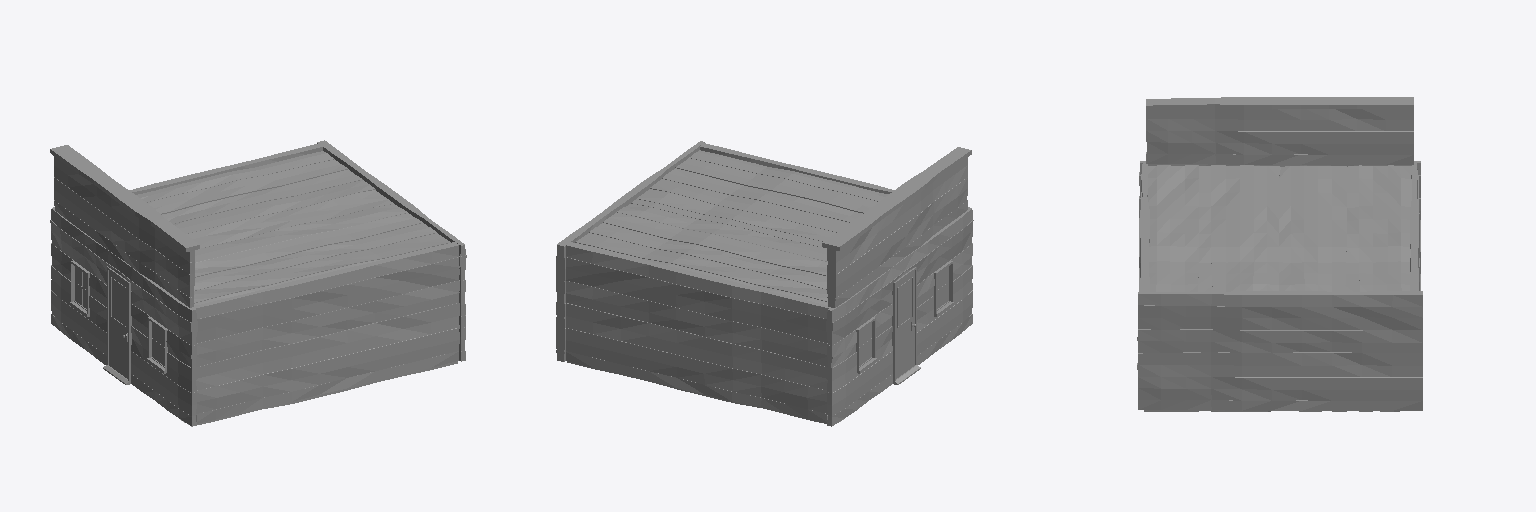
Rendered from Barber.obj.
3 renders of one model, left to right at view 1: azimuth 30°, elevation 25°; view 2: azimuth 150°, elevation 25°; view 3: azimuth 270°, elevation 25°, orthographic.
Visible parts, largest first — view 1: WildWest_Barber_Building, WildWest_Barber_Ceiling, WildWest_Barber_Door, WildWest_Barber_Window, WildWest_Barber_DoorWindow; view 2: WildWest_Barber_Building, WildWest_Barber_Ceiling, WildWest_Barber_Door, WildWest_Barber_Window, WildWest_Barber_DoorWindow; view 3: WildWest_Barber_Building, WildWest_Barber_Ceiling.
Part boxes in pixels (bbox=[...]): WildWest_Barber_Building: bbox=[50, 140, 466, 426]; WildWest_Barber_Ceiling: bbox=[137, 151, 457, 426]; WildWest_Barber_Door: bbox=[109, 271, 127, 378]; WildWest_Barber_Window: bbox=[75, 267, 164, 365]; WildWest_Barber_DoorWindow: bbox=[112, 279, 125, 325]; WildWest_Barber_Building: bbox=[556, 141, 973, 426]; WildWest_Barber_Ceiling: bbox=[567, 150, 961, 423]; WildWest_Barber_Door: bbox=[896, 271, 915, 378]; WildWest_Barber_Window: bbox=[859, 267, 948, 365]; WildWest_Barber_DoorWindow: bbox=[898, 279, 911, 325]; WildWest_Barber_Building: bbox=[1137, 97, 1422, 410]; WildWest_Barber_Ceiling: bbox=[1144, 165, 1411, 411].
Size of the model in its own units: 7.28 by 4.51 by 6.36.